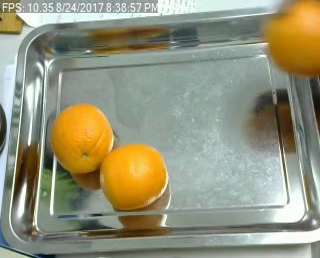Orange: (49, 102, 114, 173), (100, 144, 168, 210)
